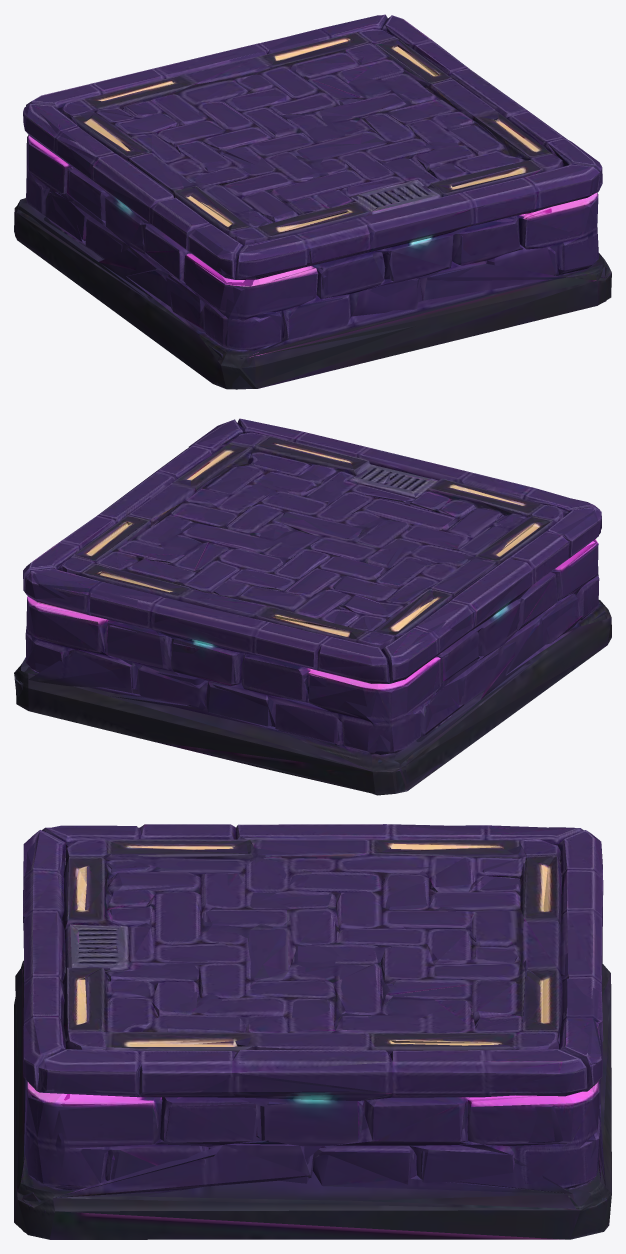
File: tile-plaza.glb
The picture shows the model from 3 angles, top to bottom: view 1: azimuth 30°, elevation 25°; view 2: azimuth 150°, elevation 25°; view 3: azimuth 270°, elevation 25°; orthographic projection. The views are drawn at different scales.
Parts seen in each view (by area): view 1: output_unwrapped; view 2: output_unwrapped; view 3: output_unwrapped.
Boxes of the visible parts, <box> form: output_unwrapped: <box>14,14,611,389</box>; output_unwrapped: <box>14,418,611,795</box>; output_unwrapped: <box>14,824,611,1239</box>.
Bounding box in the file's own units: 1.9 × 0.6103 × 1.9.
1 material, 1 textured.
